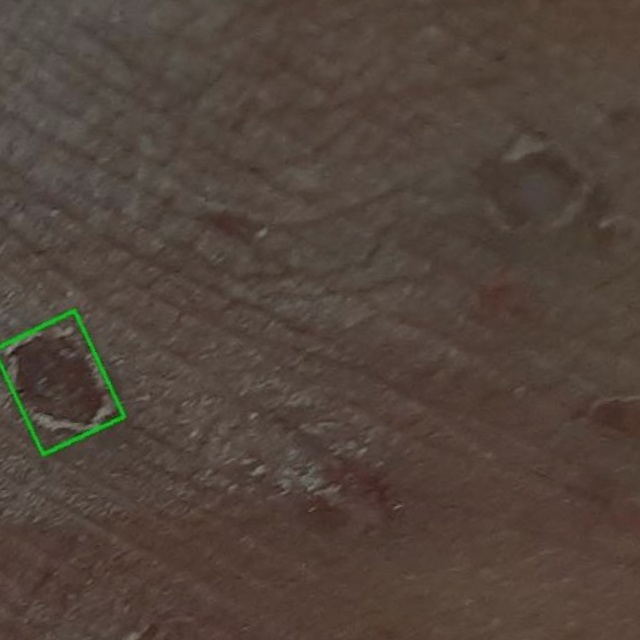Contact Dermatitis: (0, 311, 123, 455)
